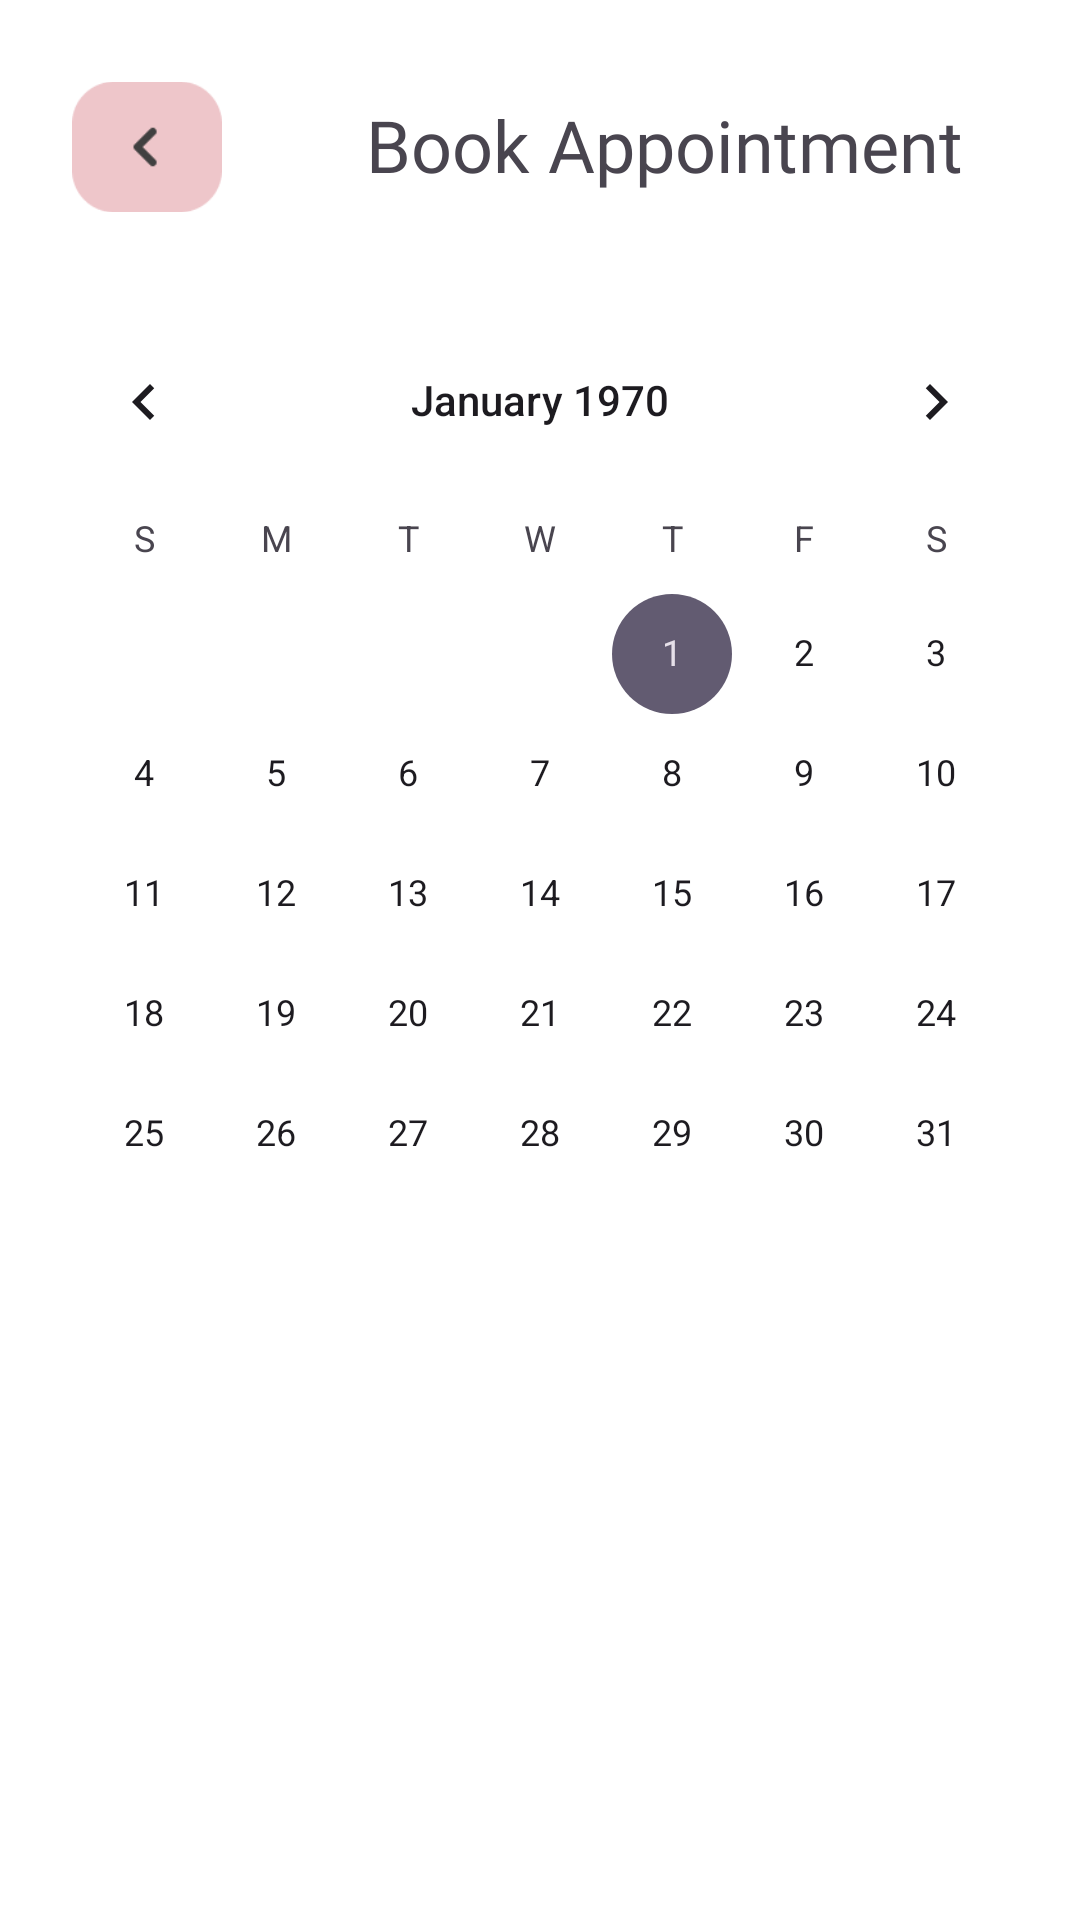

Icon bounding boxes for this 1080w x 1920h phone screenshot, format (x1, y1, x2, y2):
arrow: (72, 82, 222, 212)
